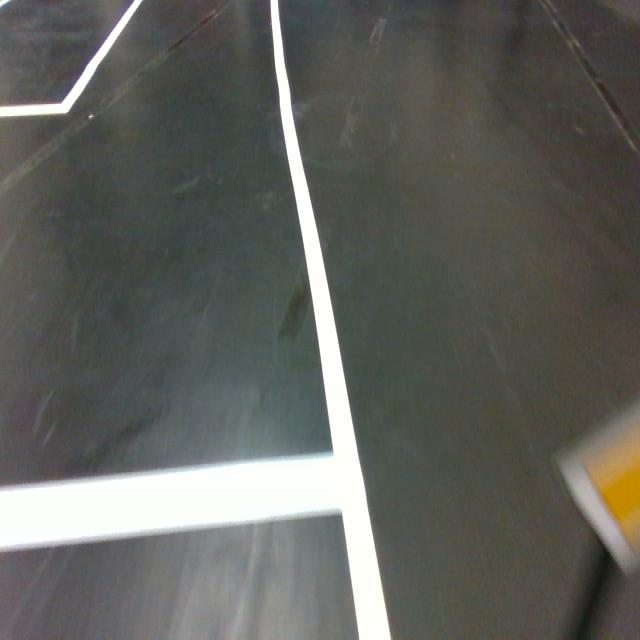priority-sign: (549, 384, 640, 582)
